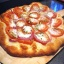onion: (17, 25, 35, 41), (38, 17, 51, 25), (19, 14, 32, 19)
pizza: (1, 1, 64, 54)
